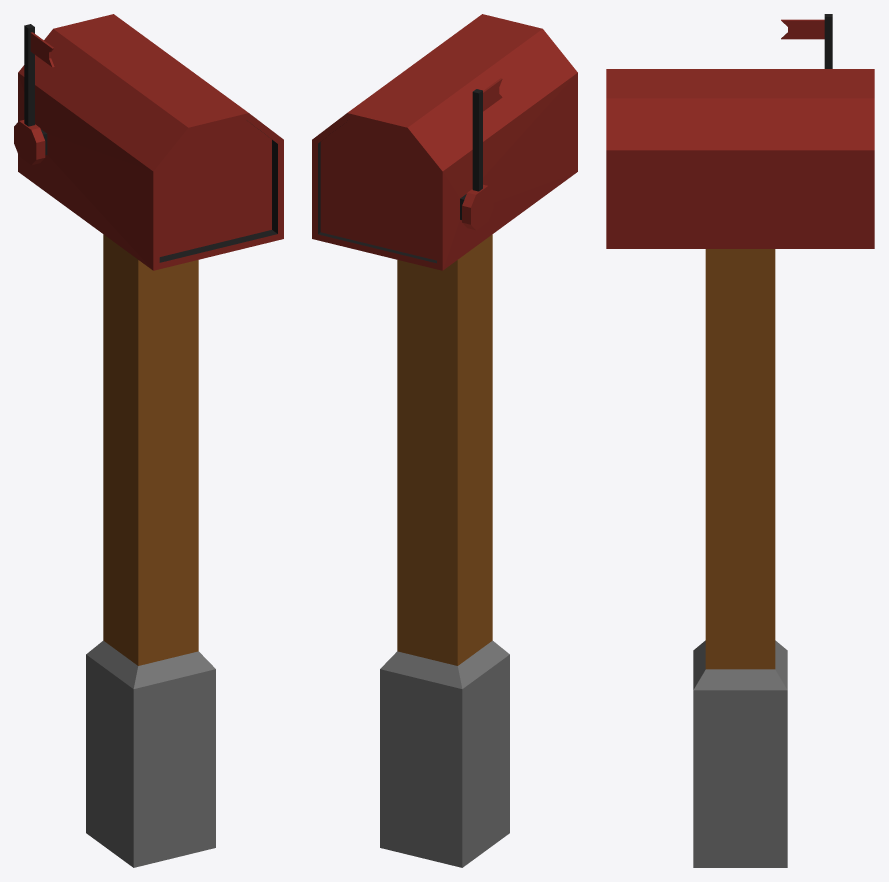
Rendered from Mailbox.fbx.
The picture shows the model from 3 angles, left to right: view 1: azimuth 30°, elevation 25°; view 2: azimuth 150°, elevation 25°; view 3: azimuth 270°, elevation 25°; orthographic projection.
Parts seen in each view (by area): view 1: Cube; view 2: Cube; view 3: Cube.
Boxes of the visible parts, x1=… form: Cube: x1=14, y1=14, x2=283, y2=867; Cube: x1=312, y1=14, x2=577, y2=867; Cube: x1=606, y1=14, x2=874, y2=867.
Bounding box in the file's own units: 35.64 × 186 × 56.89.
